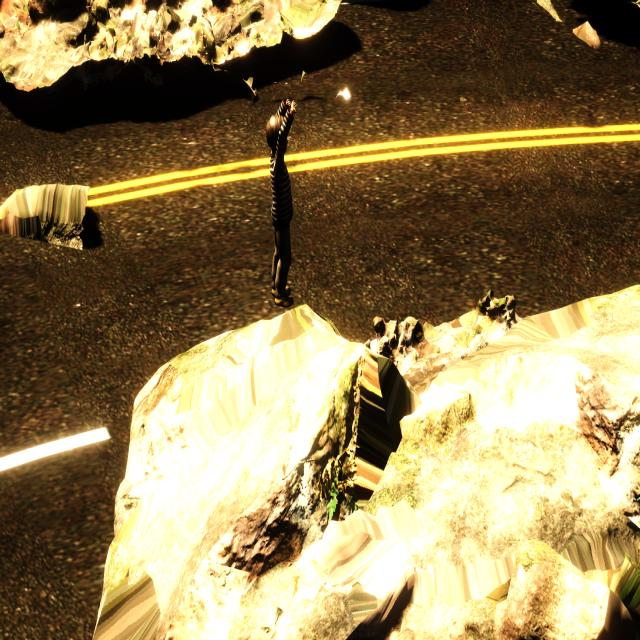Human: (262, 92, 308, 316)
